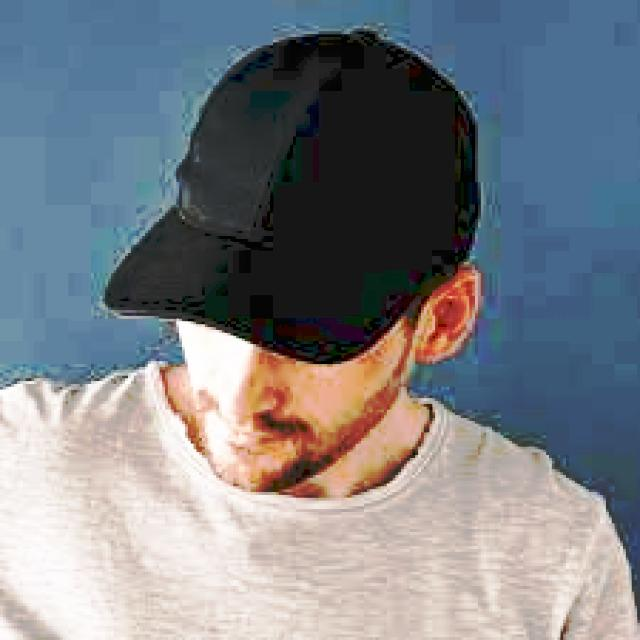TOPI: (94, 14, 481, 364)
